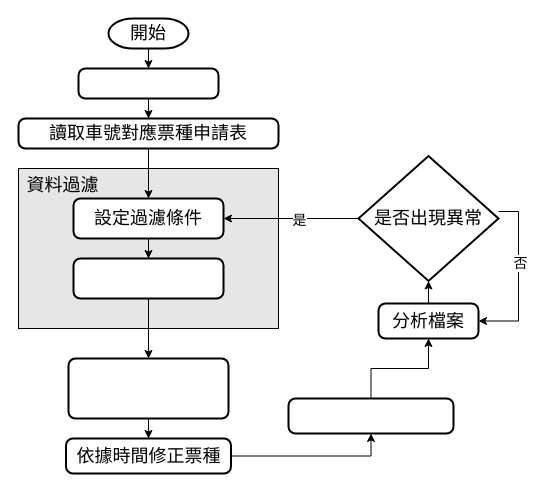
Image size: 544x491. Some labels were removed from this diagram. The shapes that lost their labels are listed below. From the top down, each one's centre as x and y in pixels, then its label:
point 148,83: 合併原始檔案
point 148,278: 刪除異常資料
point 148,388: 合併日期與時間 轉為 datetime 格式
point 370,415: 輸出分析之檔案
